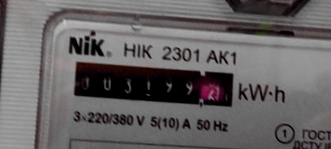0: (79, 72, 92, 91), (102, 72, 113, 91)
1: (144, 72, 153, 91)
3: (123, 76, 133, 95)
6: (206, 87, 217, 103)
9: (184, 79, 195, 97), (164, 75, 174, 94)
screen: (67, 52, 242, 118)
